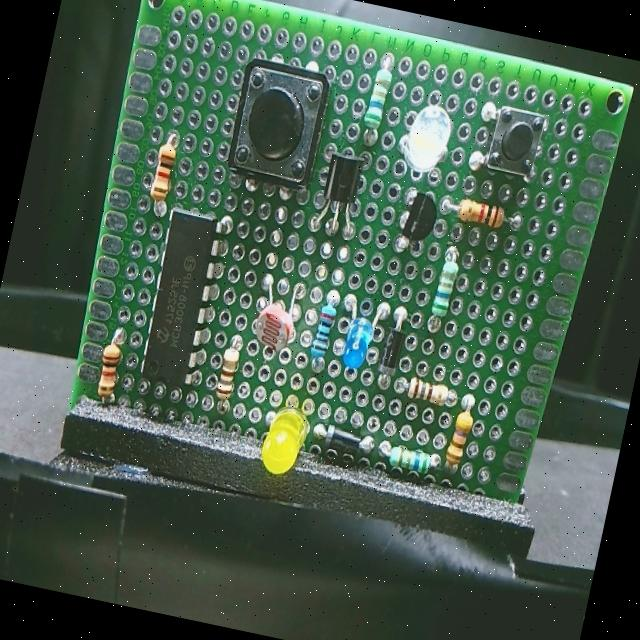IC: (134, 196, 232, 392)
cds: (248, 282, 304, 362)
diode: (369, 306, 414, 391), (312, 418, 378, 462)
led: (391, 94, 464, 188), (250, 388, 314, 488), (328, 297, 388, 381)
resistor: (414, 248, 471, 325), (300, 282, 348, 373), (359, 53, 406, 135), (88, 329, 132, 411), (440, 390, 481, 470), (446, 192, 514, 240), (142, 130, 182, 208), (378, 435, 440, 482), (207, 333, 244, 409), (400, 366, 457, 412)
switch: (222, 51, 335, 193), (482, 94, 556, 184)
transistor: (300, 136, 372, 250), (392, 189, 439, 256)
